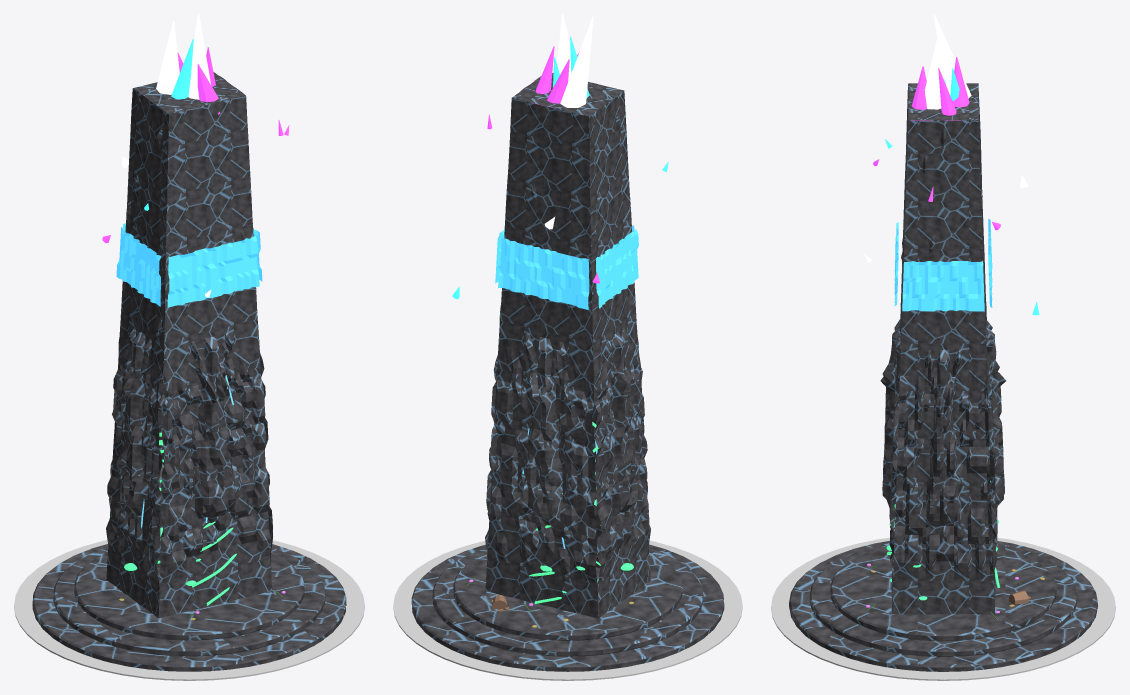
Rendered from veilstone-monolith.glb.
3 views of the same model, side by side, from view 1: azimuth 30°, elevation 25°; view 2: azimuth 150°, elevation 25°; view 3: azimuth 270°, elevation 25° (orthographic).
Parts seen in each view (by area): view 1: Shaft, Platform, ScorchRing, RuneBands, CrystalCluster; view 2: Shaft, Platform, RuneBands, ScorchRing, CrystalCluster; view 3: Shaft, Platform, ScorchRing, RuneBands, CrystalCluster.
Boxes of the visible parts, x1,y1,x2,y2 form: Shaft: (106, 72, 272, 618); Platform: (32, 544, 346, 671); ScorchRing: (14, 540, 364, 680); RuneBands: (116, 223, 262, 307); CrystalCluster: (156, 14, 220, 114); Shaft: (485, 73, 650, 618); Platform: (411, 544, 724, 671); RuneBands: (495, 225, 638, 309); ScorchRing: (393, 540, 742, 680); CrystalCluster: (533, 14, 593, 107); Shaft: (880, 83, 1006, 614); Platform: (789, 541, 1097, 671); ScorchRing: (771, 537, 1115, 680); RuneBands: (894, 216, 992, 311); CrystalCluster: (911, 14, 971, 120).
Bounding box in the file's own units: 6.7 × 12.52 × 6.7.
12 materials, 2 textured.
